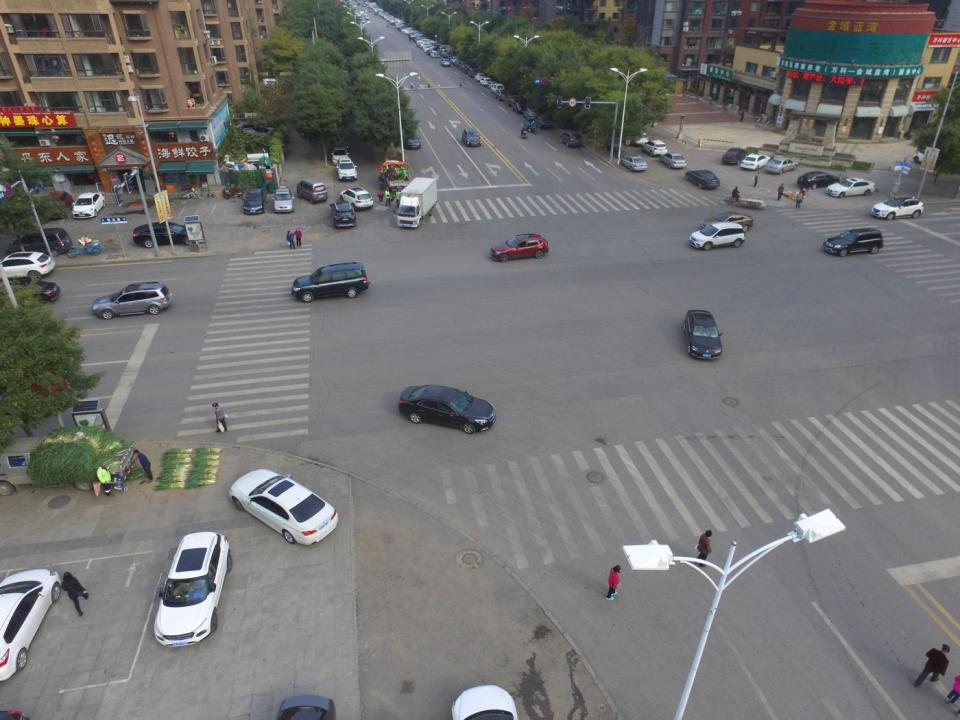car: (154, 534, 231, 648), (228, 467, 338, 545), (0, 566, 65, 683), (397, 382, 496, 434), (292, 262, 370, 303), (91, 281, 173, 319), (684, 310, 723, 362), (824, 227, 884, 258), (0, 278, 60, 309), (5, 229, 71, 256), (490, 233, 550, 261), (132, 223, 193, 250), (690, 223, 746, 251), (0, 252, 55, 280), (873, 195, 924, 220), (826, 176, 878, 198), (913, 144, 955, 167), (74, 190, 108, 218), (797, 169, 842, 190), (339, 186, 373, 210), (329, 200, 358, 228), (684, 169, 720, 191), (765, 157, 798, 174), (273, 186, 293, 214), (244, 188, 264, 216), (335, 157, 358, 180), (623, 126, 648, 146), (660, 152, 686, 171), (740, 154, 770, 170), (622, 153, 648, 171), (722, 147, 748, 165), (641, 140, 666, 158), (461, 128, 482, 148), (560, 131, 582, 147), (330, 147, 348, 166), (403, 132, 421, 150), (536, 116, 552, 130), (524, 108, 540, 120), (512, 103, 528, 115), (504, 95, 518, 106), (494, 92, 509, 101), (490, 84, 503, 94), (468, 68, 480, 77), (480, 78, 492, 86), (462, 65, 472, 74), (487, 81, 498, 89), (474, 73, 485, 81), (451, 56, 460, 65), (441, 59, 450, 67), (458, 62, 467, 70), (453, 60, 463, 67)
truck: (0, 432, 139, 494), (396, 176, 441, 229), (382, 158, 413, 202)
van: (297, 178, 326, 206)
